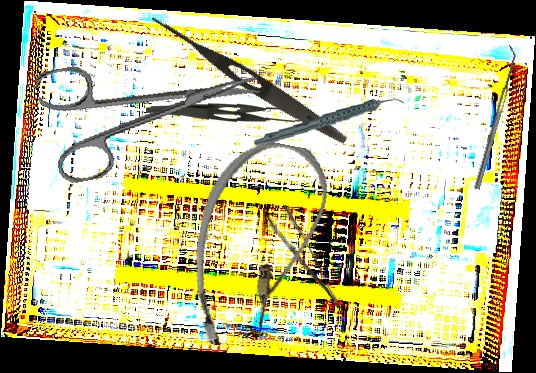Cannula: (179, 131, 335, 361)
Dressing Forceps: (146, 10, 351, 150), (263, 202, 343, 319), (145, 100, 301, 130)
Handpiece: (251, 96, 407, 148)
Iris Scissors: (34, 32, 270, 187)
Spatula Surgical: (468, 45, 521, 190)
